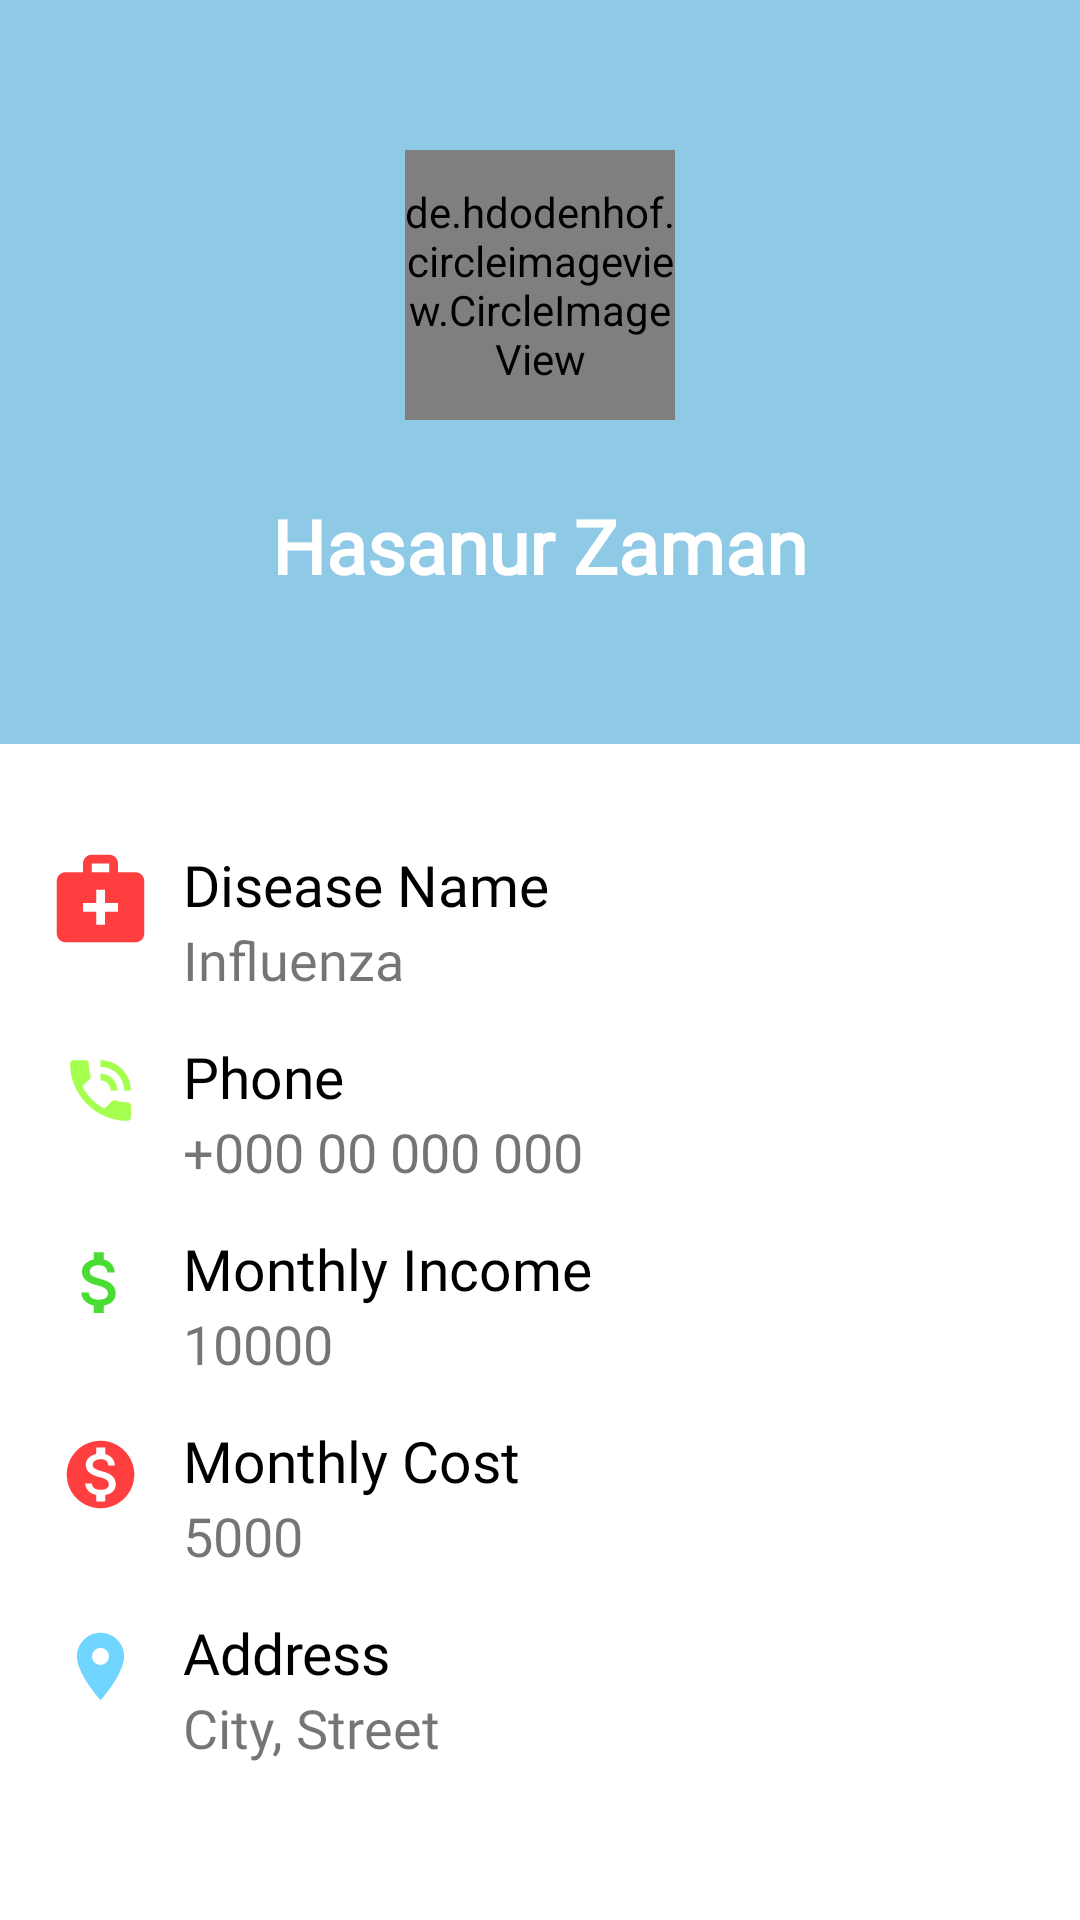

Where to tap for icons on this 1080×1920 app screen, as [x,y]:
location: [100,1666]
medical services: [100,898]
money sign: [98,1282]
month cost: [100,1474]
